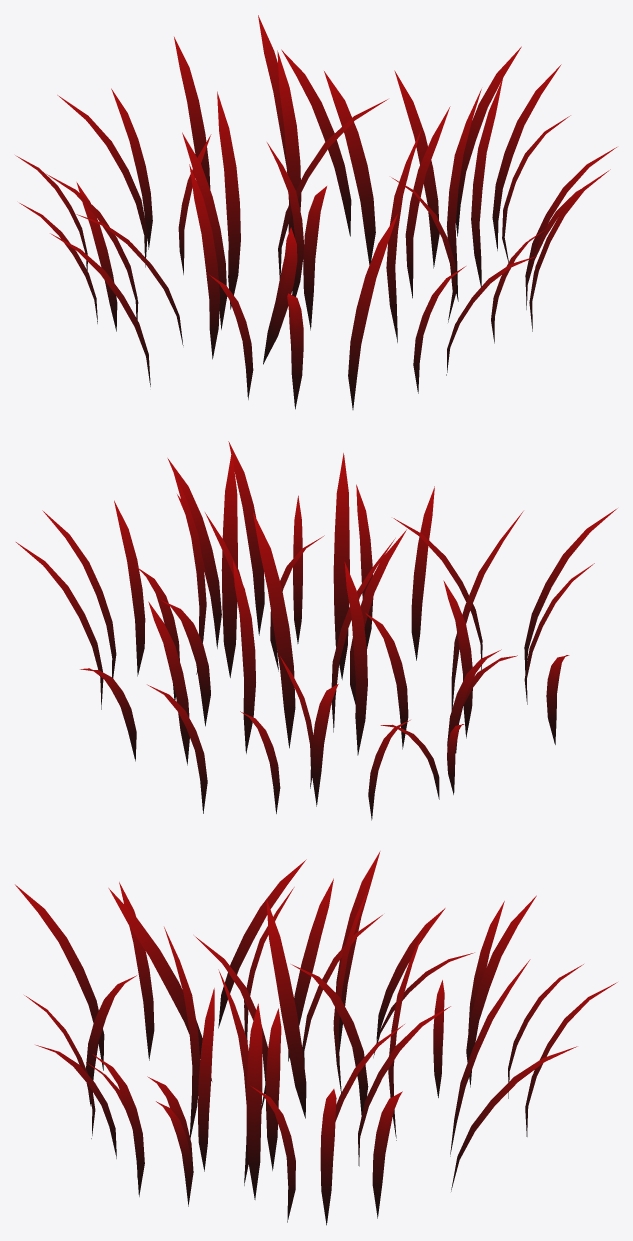
Rendered from _rass.fbx.
3 views of the same model, one above another, from view 1: azimuth 30°, elevation 25°; view 2: azimuth 150°, elevation 25°; view 3: azimuth 270°, elevation 25° (orthographic). The views are drawn at different scales.
Parts seen in each view (by area): view 1: Grass; view 2: Grass; view 3: Grass.
Part boxes in pixels (left/top/right/bottom): Grass: left=15, top=15, right=616, bottom=409; Grass: left=16, top=441, right=617, bottom=820; Grass: left=15, top=851, right=617, bottom=1225.
Bounding box in the file's own units: 3.59 × 1.5 × 3.53.
